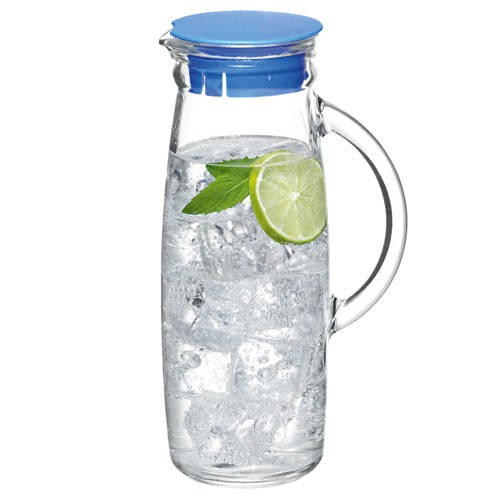glass of water: (183, 152, 314, 464)
